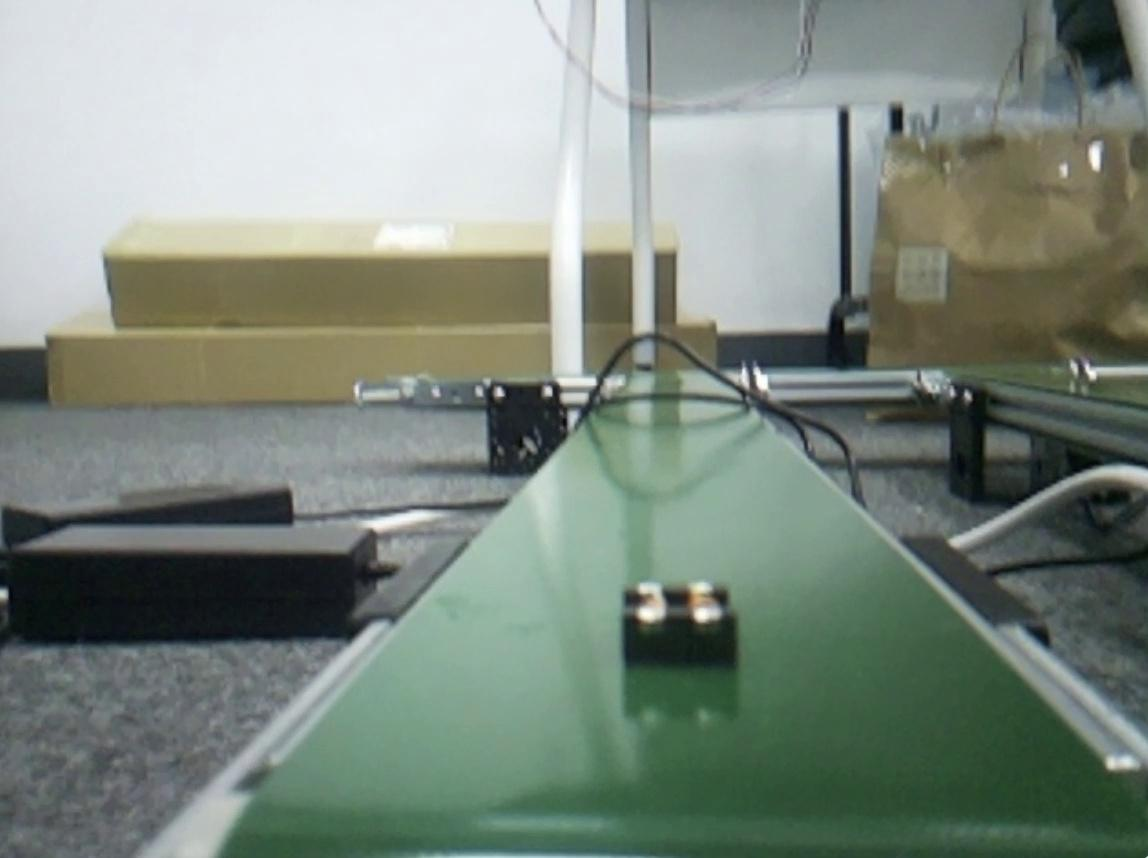inductor: (625, 585, 733, 668)
